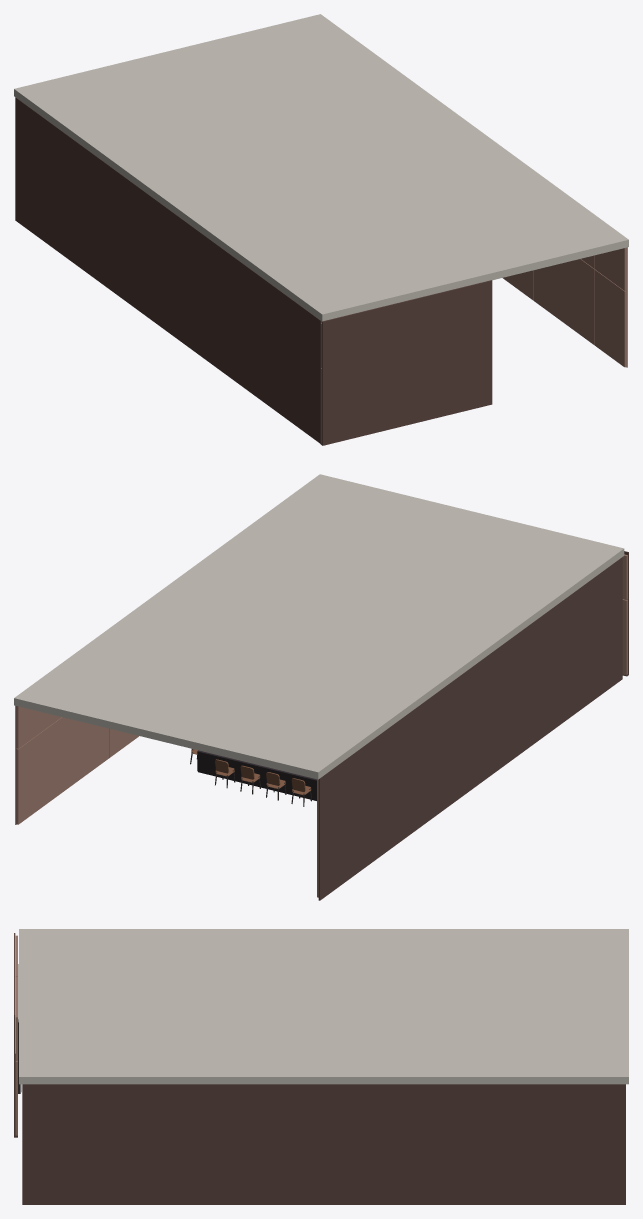
The model's file is salon-six.glb.
The picture shows the model from 3 angles, top to bottom: view 1: azimuth 30°, elevation 25°; view 2: azimuth 150°, elevation 25°; view 3: azimuth 270°, elevation 25°; orthographic projection.
Parts seen in each view (by area): view 1: Surface; view 2: Surface; view 3: Surface.
Part boxes in pixels (x1,y1,x2,y2): Surface: (14, 14, 628, 445); Surface: (14, 474, 628, 900); Surface: (14, 929, 628, 1204).
Bounding box in the file's own units: 11.29 × 4.55 × 19.66.
